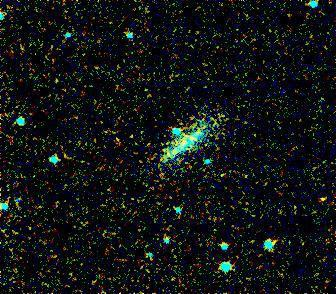star: (306, 183, 336, 213)
